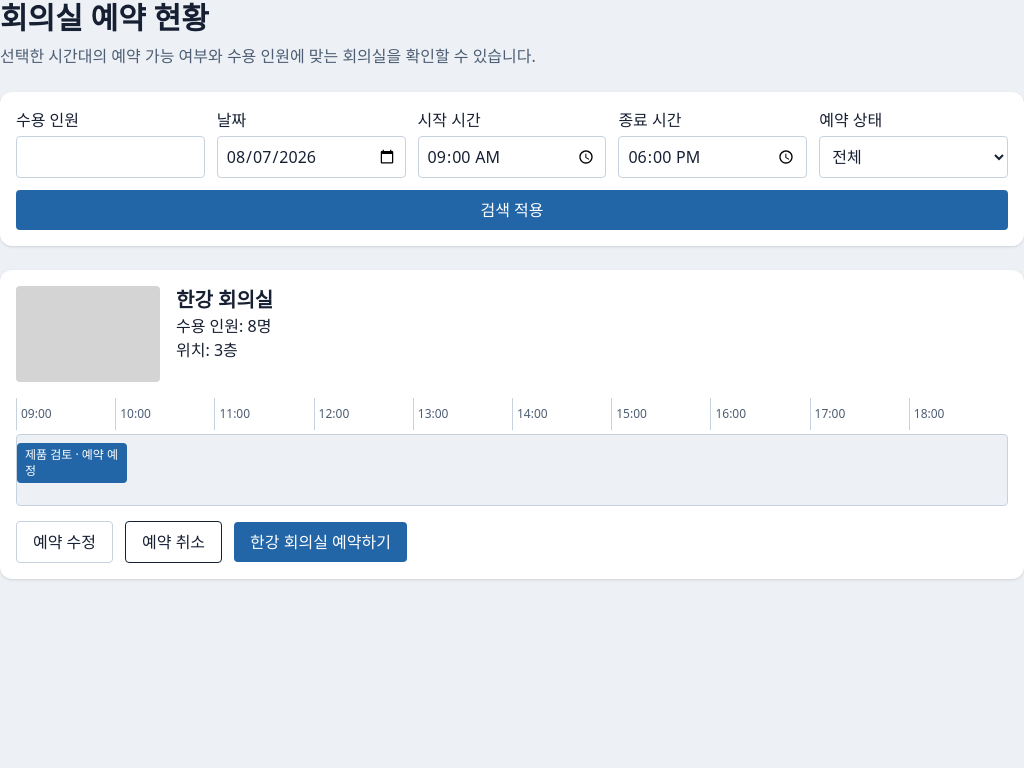
Test: MeetingRoomPage › loads owned reservation values, updates its connected schedule, and refreshes only room availability
Click the button with aria-label "예약 수정: 제품 검토" at [64, 542], box [16, 521, 113, 563]
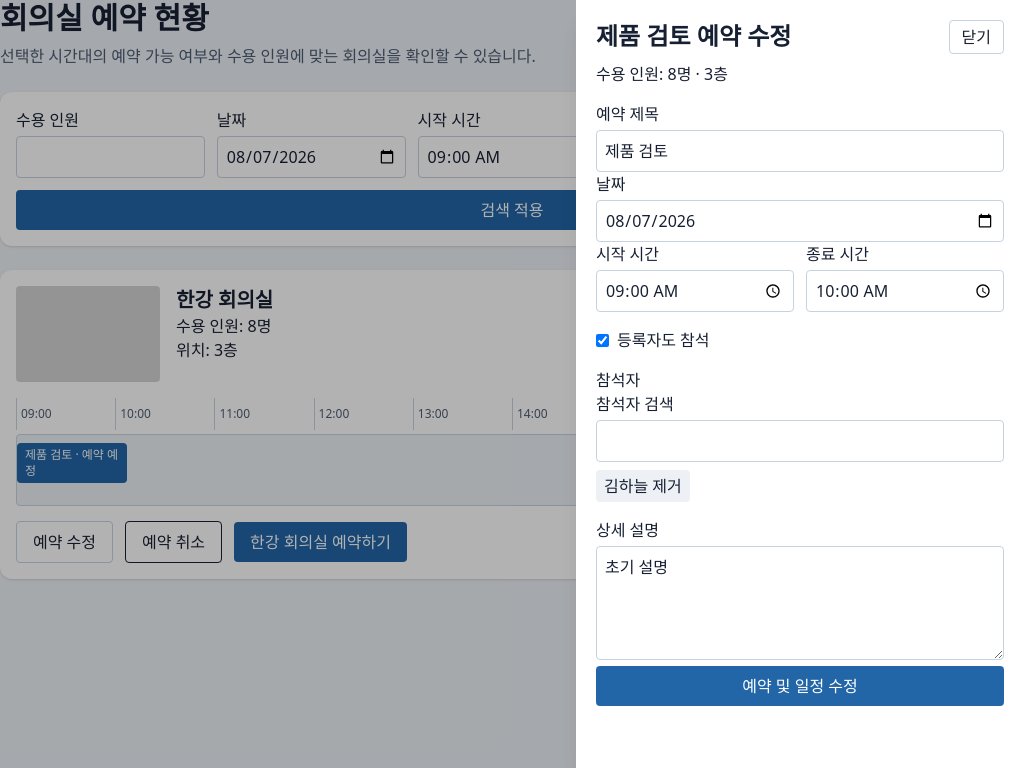
Check: the field labelled "예약 제목" holds "제품 검토"
Check: the text box labelled "상세 설명" holds "초기 설명", box [596, 546, 1004, 660]
Check: the checkbox labelled "등록자도 참석" is checked, box [596, 334, 609, 346]
Replace the text in the field labelled "예약 제목" with "수정된 제품 검토" at [800, 151], box [596, 130, 1004, 172]
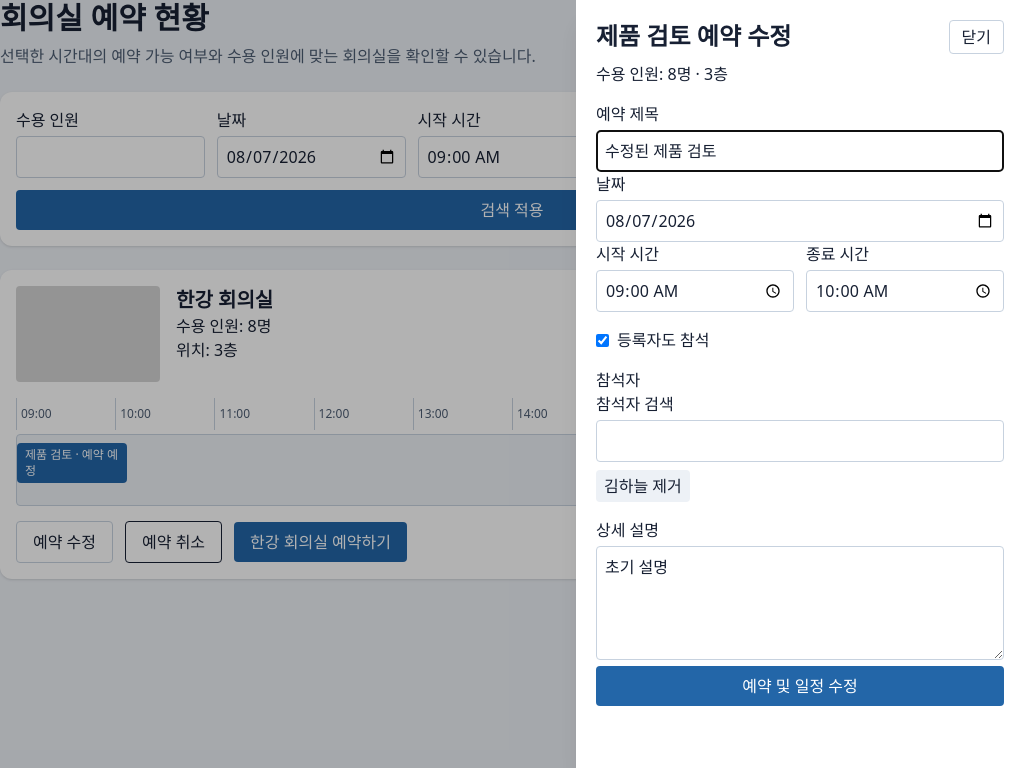
Click the button "예약 및 일정 수정" at [800, 686], box [596, 666, 1004, 706]
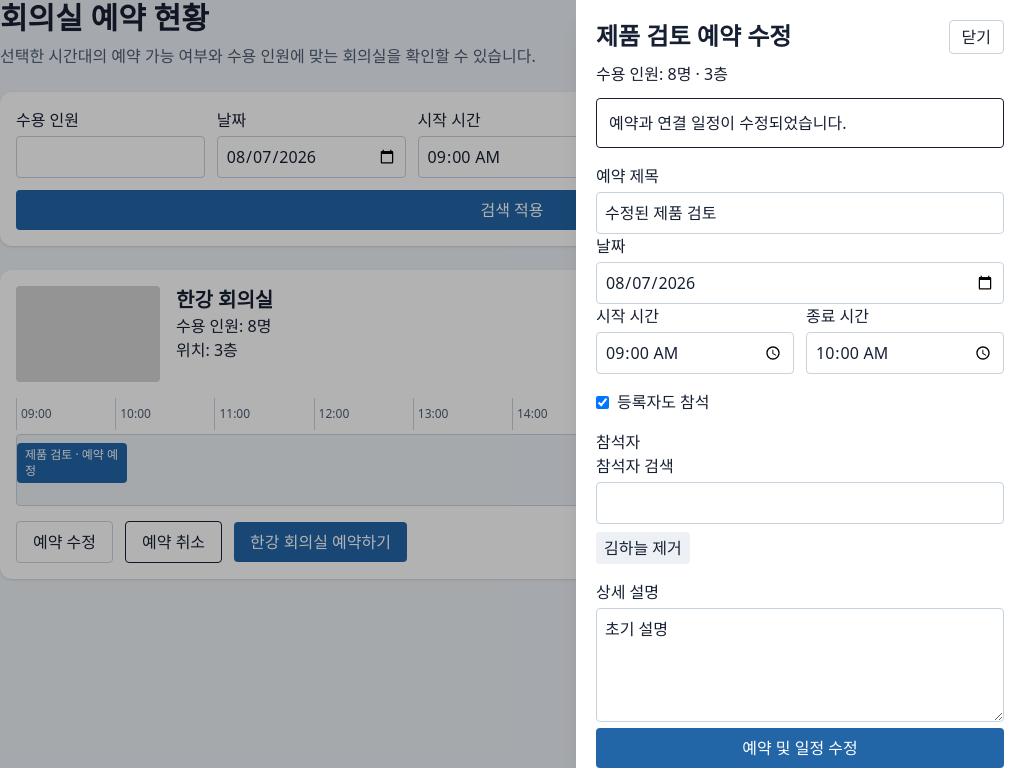
Check: the message shows "예약과 연결 일정이 수정되었습니다", box [609, 112, 847, 134]
